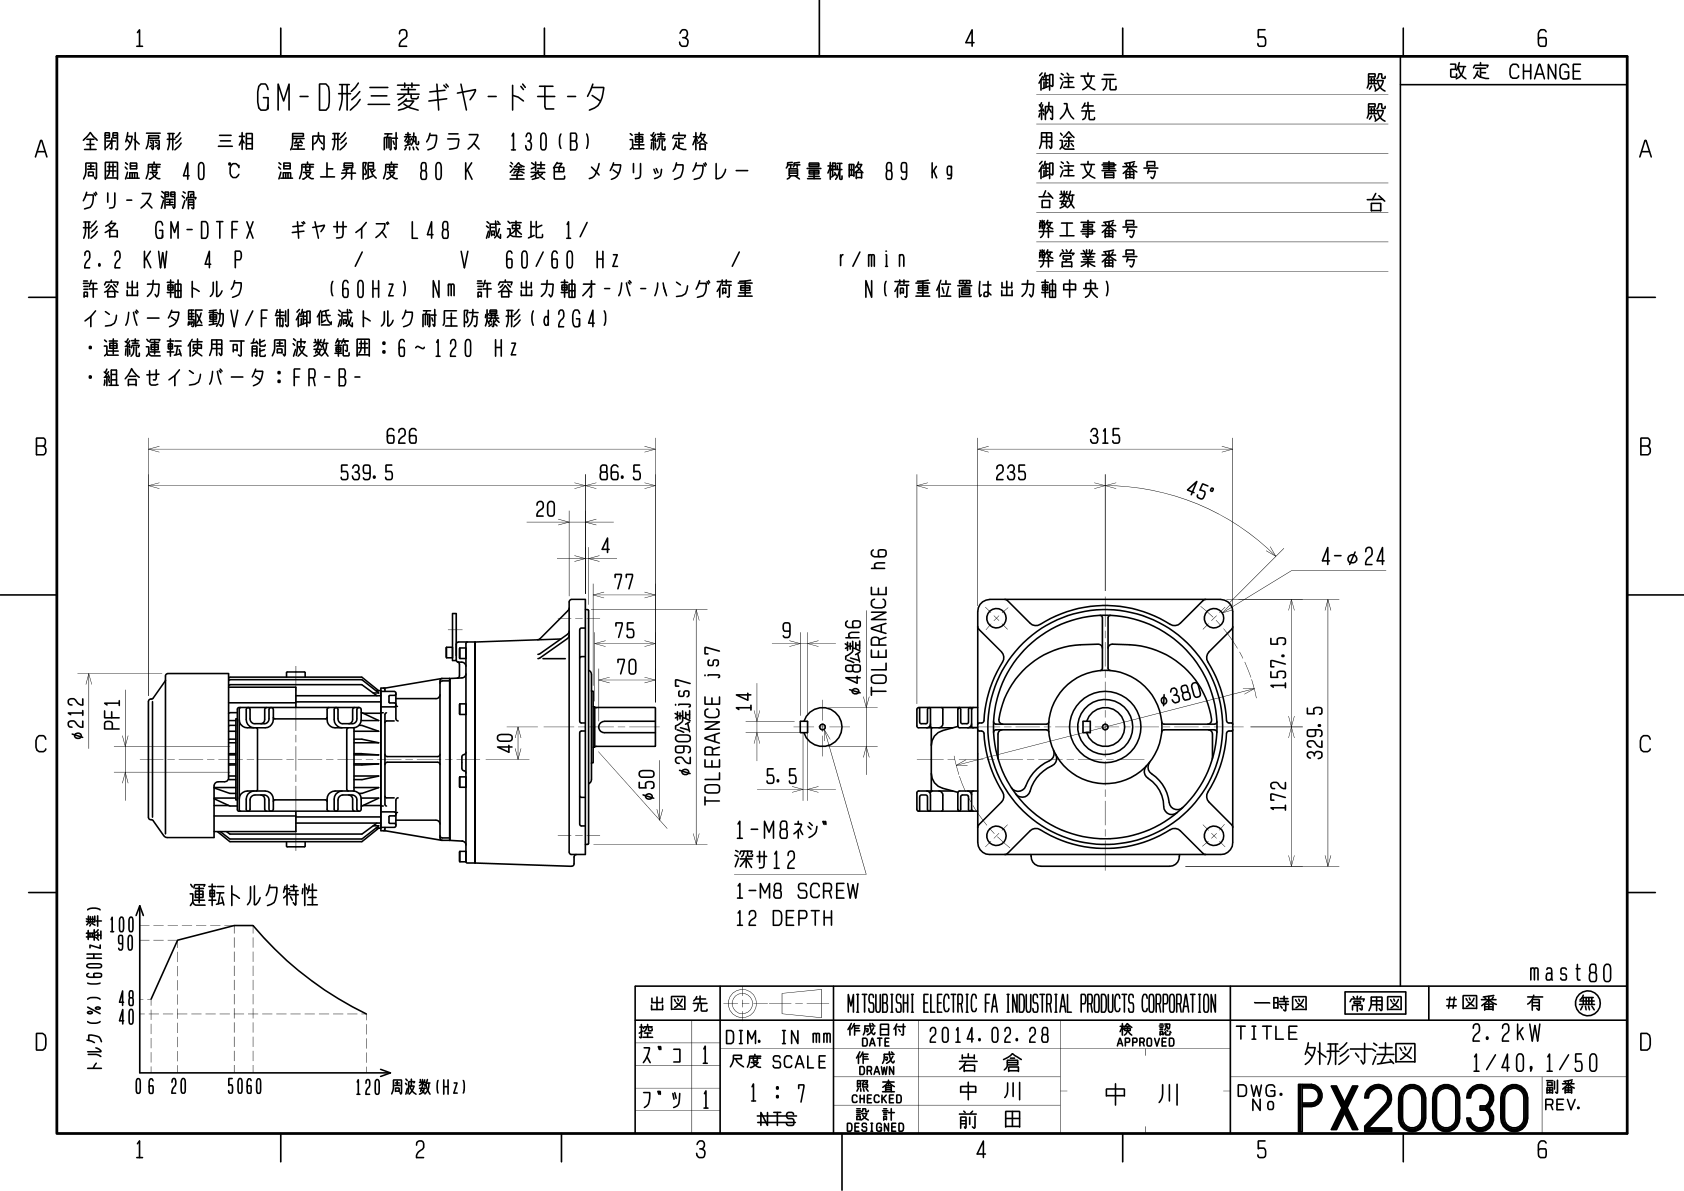GM_D_VF制御屋内_三相_フランジ: (61, 427, 1401, 955)
